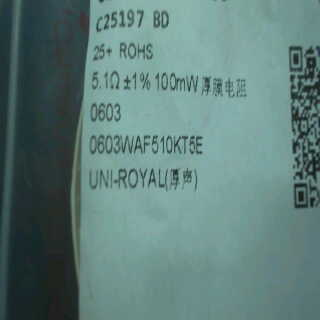5.1R: (89, 65, 125, 95)
